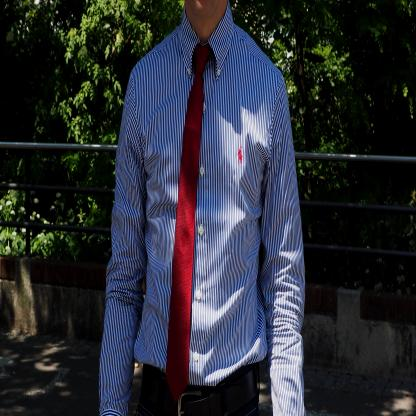dress: (90, 1, 316, 416)
